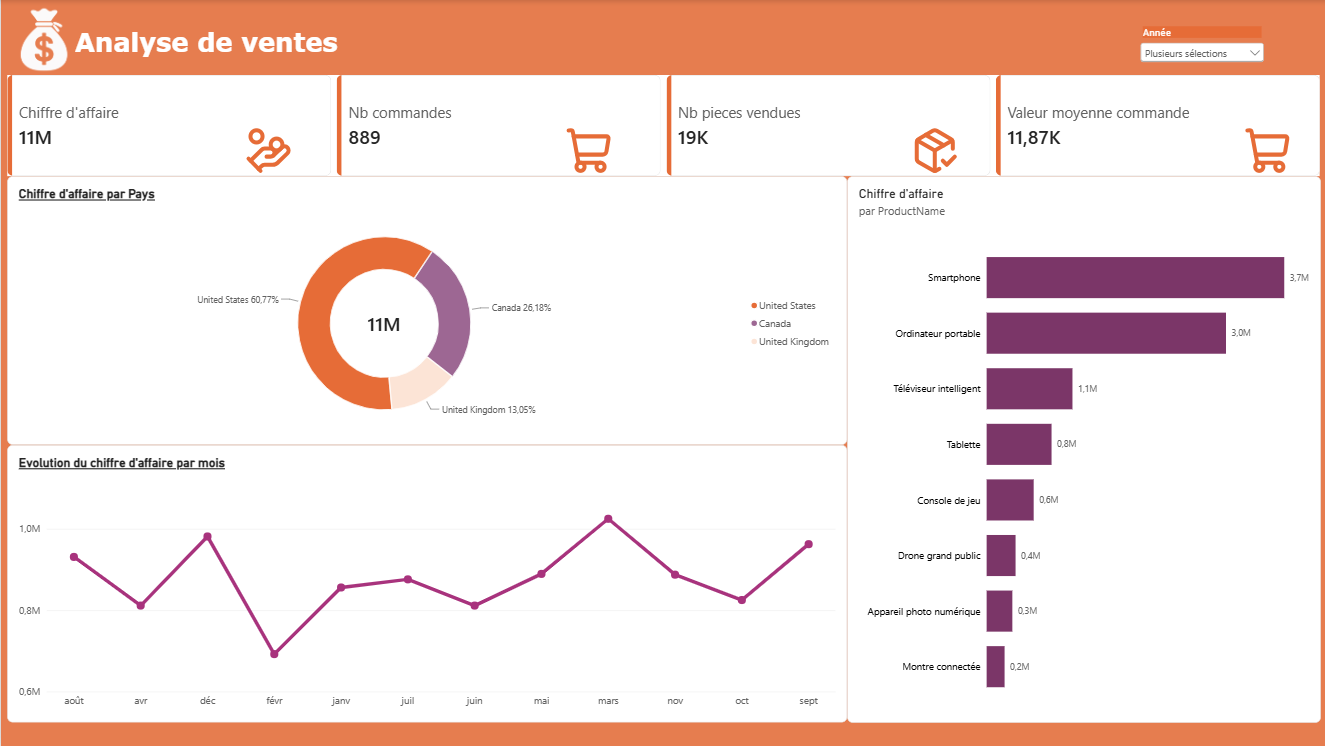

This screenshot's page, from the dashboard's own definition file:
{"tool":"powerbi","page":{"name":"Vue d'ensemble","canvas":[1920,1080],"ordinal":0},"visuals":[{"type":"cardVisual","fields":{"Data":["Calendrier.Chiffre d'affaire","Calendrier.Nb commandes","Calendrier.Nb pieces vendues","Calendrier.Valeur moyenne commande"]},"box":[9,108.6,1902,146.6],"z":0},{"type":"donutChart","title":"Chiffre d''affaire par Pays","fields":{"Category":["Pays.SalesCountry"],"Y":["Calendrier.Chiffre d'affaire"]},"box":[9,255.2,1216.1,389.1],"z":1000},{"type":"lineChart","title":"Evolution du chiffre d''affaire par mois","fields":{"Category":["Calendrier.Année Hiérarchie.Mois"],"Y":["Calendrier.Chiffre d'affaire"]},"box":[9,644.2,1216.1,401.7],"z":2000},{"type":"clusteredBarChart","fields":{"Category":["Produits.ProductName"],"Y":["Calendrier.Chiffre d'affaire"]},"box":[1225.1,255.2,685.9,790.8],"z":3000},{"type":"textbox","box":[106.8,38,436.1,50.7],"z":3001},{"type":"slicer","fields":{"Values":["Calendrier.Année Hiérarchie.Année"]},"box":[1645,38,188.2,68.8],"z":3003},{"type":"image","box":[322.1,182.8,130,70],"z":3004},{"type":"image","box":[785.4,182.8,130,70],"z":3005},{"type":"image","box":[1286.7,182.8,130,70],"z":3006},{"type":"image","box":[1768,182.8,130,70],"z":3007},{"type":"image","box":[0,0,124.9,108.6],"z":3008}]}

Visuals, with their boxes in screenshot pixels (x1, y1, x2, y2), scaled from the page's 1920x1080 canvas onto the 1325x746 screenshot:
cardVisual - Calendrier.Chiffre d'affaire x Calendrier.Nb commandes: x1=6, y1=75, x2=1319, y2=176
"Chiffre d''affaire par Pays" donutChart: x1=6, y1=176, x2=845, y2=445
"Evolution du chiffre d''affaire par mois" lineChart: x1=6, y1=445, x2=845, y2=722
clusteredBarChart - Produits.ProductName x Calendrier.Chiffre d'affaire: x1=845, y1=176, x2=1319, y2=723
textbox: x1=74, y1=26, x2=375, y2=61
slicer - Calendrier.Année Hiérarchie.Année: x1=1135, y1=26, x2=1265, y2=74
image: x1=222, y1=126, x2=312, y2=175
image: x1=542, y1=126, x2=632, y2=175
image: x1=888, y1=126, x2=978, y2=175
image: x1=1220, y1=126, x2=1310, y2=175
image: x1=0, y1=0, x2=86, y2=75
